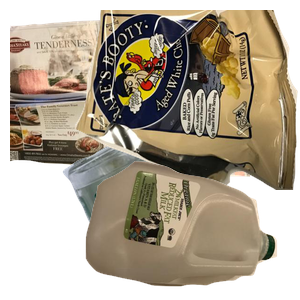glass: (60, 120, 300, 300)
paper: (10, 11, 250, 180)
plastic: (83, 159, 300, 300)
trash: (75, 10, 300, 190)
